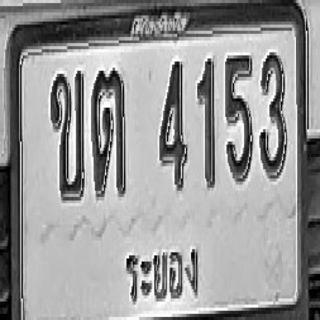A02: (51, 69, 85, 198)
A21: (92, 68, 126, 197)
N01: (197, 55, 214, 188)
N03: (259, 51, 286, 177)
N04: (159, 58, 187, 191)
N05: (226, 52, 252, 182)
P53: (122, 229, 203, 315)
